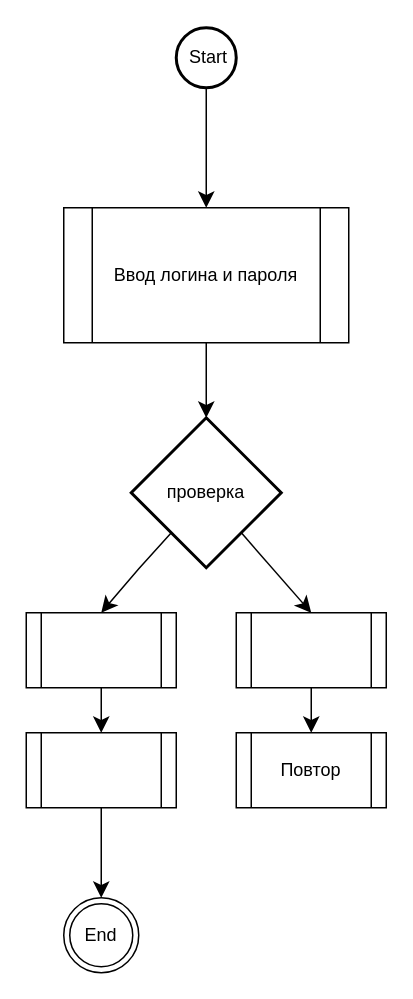
Image size: 413x999. Some labels were removed from this diagram. Each missing label, with the centre of its shape:
Доступ: point (100, 769)
Неправильно: point (310, 649)
Правильно: point (100, 649)
